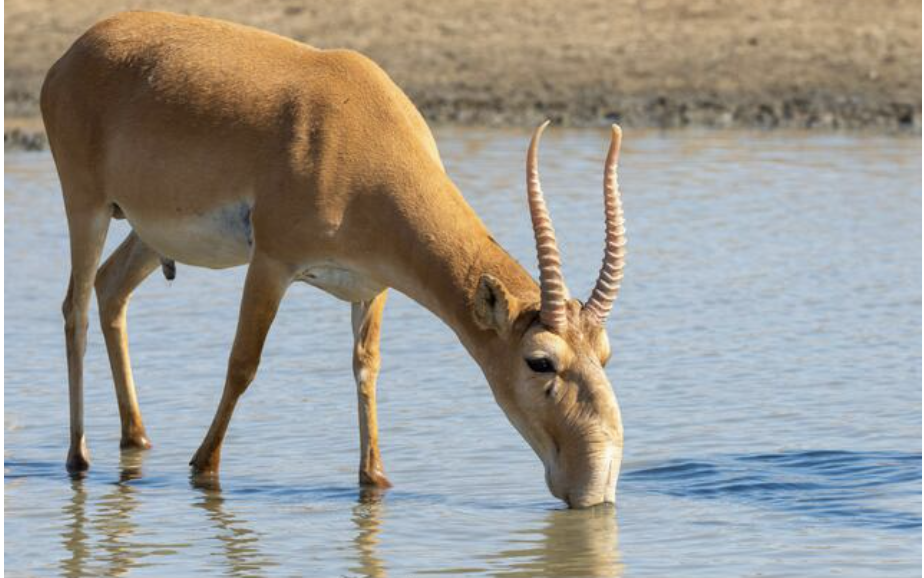saiga: (32, 8, 633, 534)
